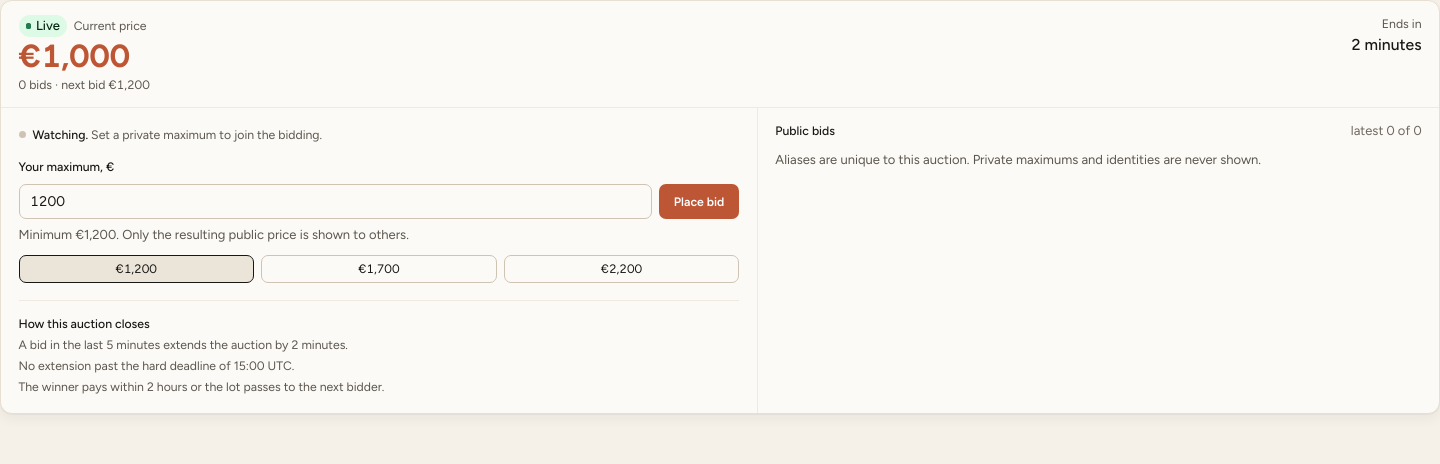
Test: LotWorkspace bidding states › shows the typed mutation message returned by the client boundary
Click the button "Place bid".
click(699, 202)  # box top-left (659, 184), bottom-right (739, 219)
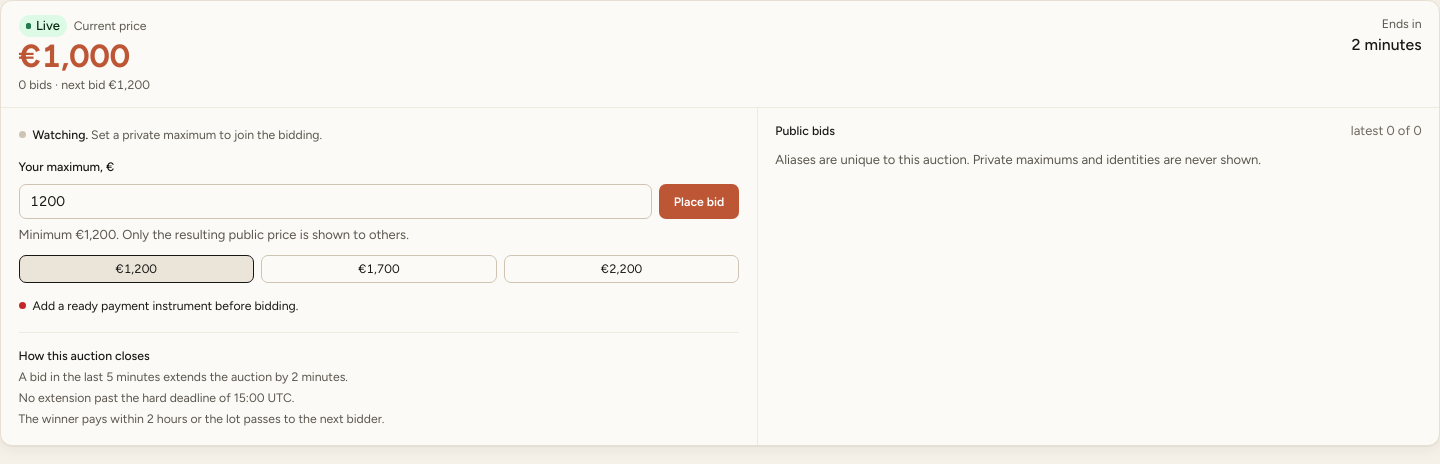
Expected: the message shows "ready payment instrument", top-left (32, 298), bottom-right (298, 312)
